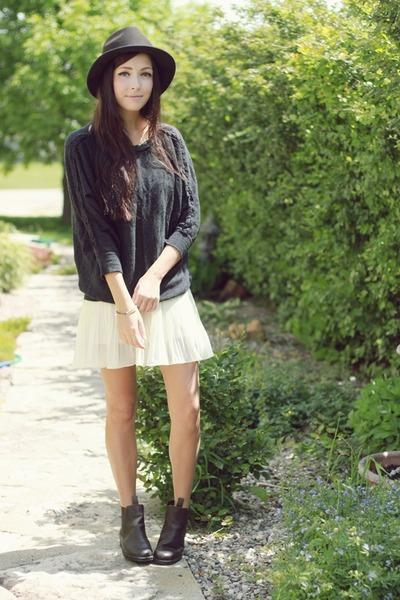hat: (87, 27, 175, 96)
shirt: (62, 123, 198, 303)
shoe: (119, 492, 193, 566)
skirt: (66, 289, 222, 368)
